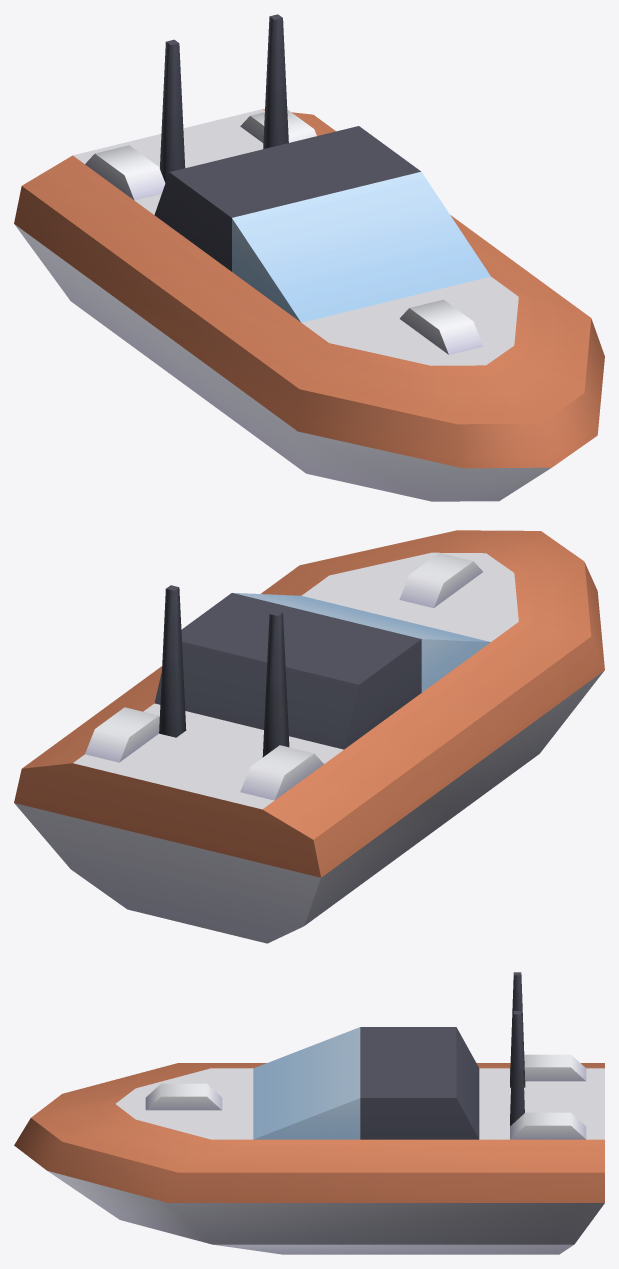
The model's file is boat-speed-i-transformed.glb.
3 renders of one model, top to bottom at view 1: azimuth 30°, elevation 25°; view 2: azimuth 150°, elevation 25°; view 3: azimuth 270°, elevation 25°, orthographic. The views are drawn at different scales.
Visible parts, largest first — view 1: boat-speed-i; view 2: boat-speed-i; view 3: boat-speed-i.
Part boxes in pixels (x1,y1,x2,y2): boat-speed-i: (14,14,604,501); boat-speed-i: (14,530,604,943); boat-speed-i: (14,972,604,1254).
Size of the model in its own units: 1.79 by 1.7 by 3.87.
1 material, 1 textured.
